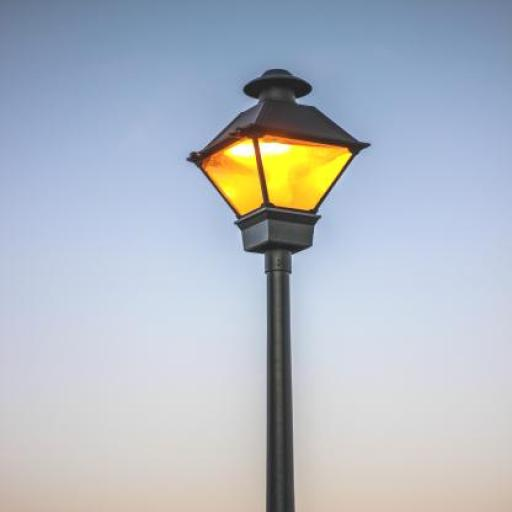street light: (186, 69, 372, 511)
